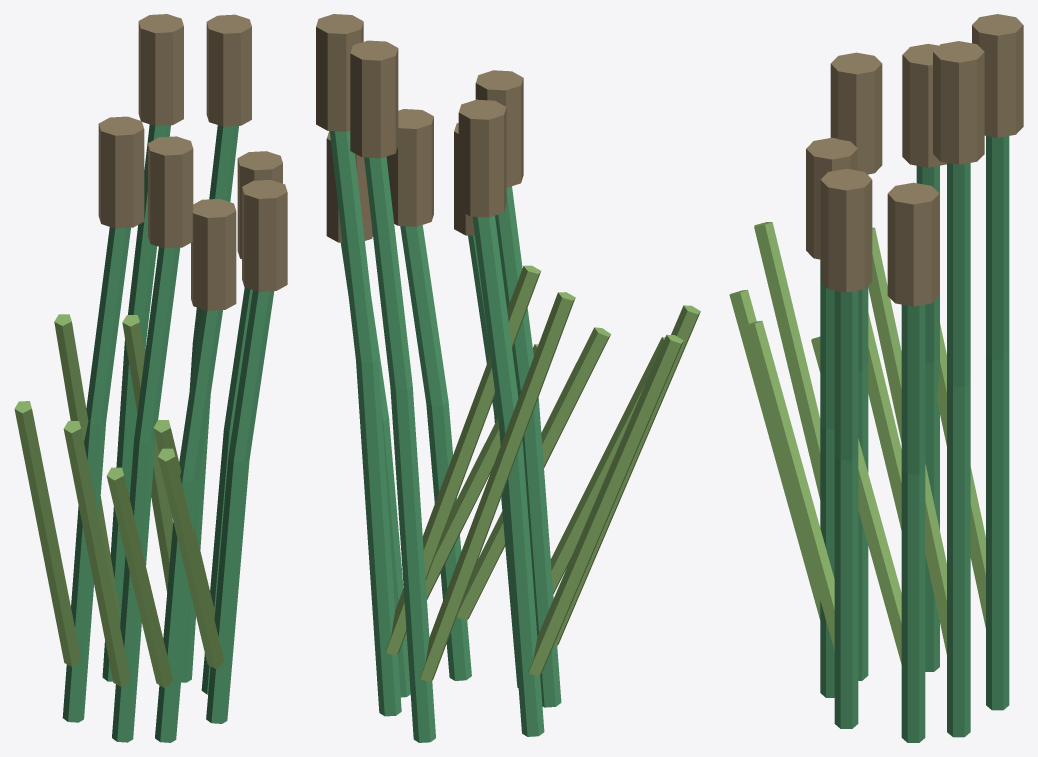
The model's file is AQUA-025.glb.
3 renders of one model, left to right at view 1: azimuth 30°, elevation 25°; view 2: azimuth 150°, elevation 25°; view 3: azimuth 270°, elevation 25°, orthographic. The views are drawn at different scales.
Visible parts, largest first — view 1: AQUA-025; view 2: AQUA-025; view 3: AQUA-025.
Boxes of the visible parts, x1,y1,x2,y2 form: AQUA-025: (14, 14, 287, 742); AQUA-025: (316, 14, 700, 742); AQUA-025: (729, 14, 1023, 742).
Bounding box in the file's own units: 0.8123 × 1.66 × 0.6264.
